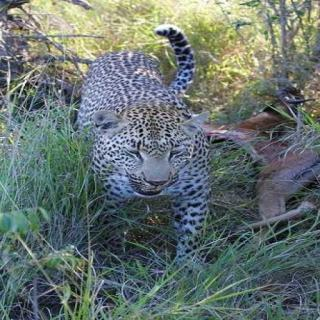Leopard: (58, 32, 228, 249)
